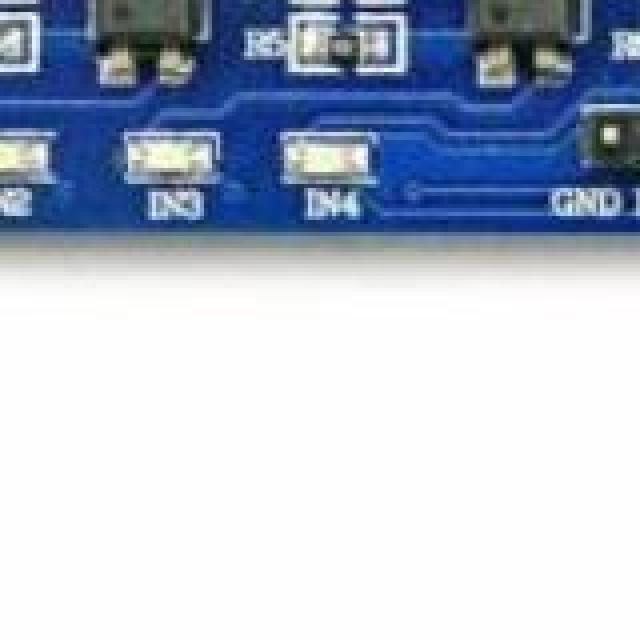IC: (92, 0, 212, 92), (464, 0, 580, 80)
LED: (284, 140, 380, 194), (120, 140, 206, 182), (0, 132, 56, 192)
connector: (568, 116, 640, 192)
resistor: (280, 16, 398, 66), (0, 16, 36, 68), (288, 0, 404, 8)
